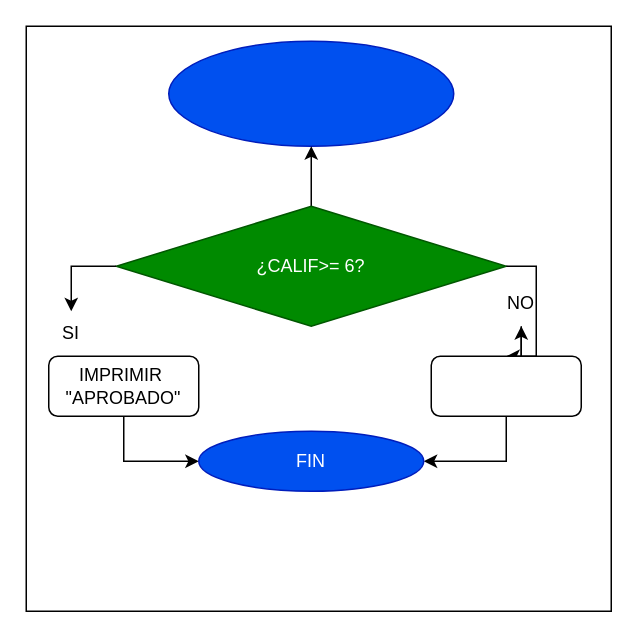
This 638x638 diagram has some shape labels left out. Here are the shapes that lost their labels. From the top down, the centre of each, then its label:
point (310, 93): INICIO
point (505, 385): IMPRIMIR ""REPROBADO"
